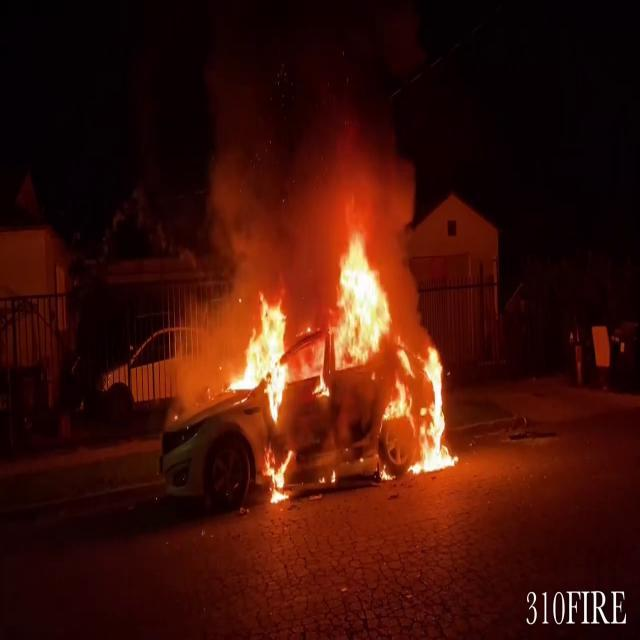Fire: (219, 210, 457, 492)
Smoke: (190, 1, 420, 262)
